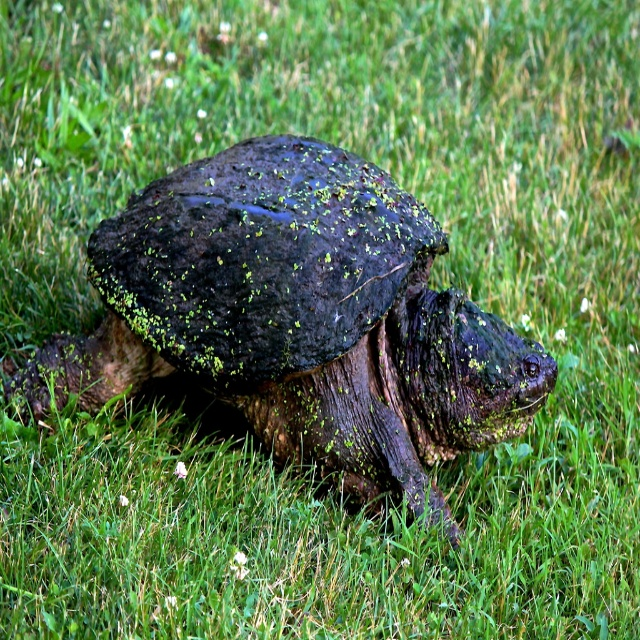Tortoise: (3, 133, 558, 562)
